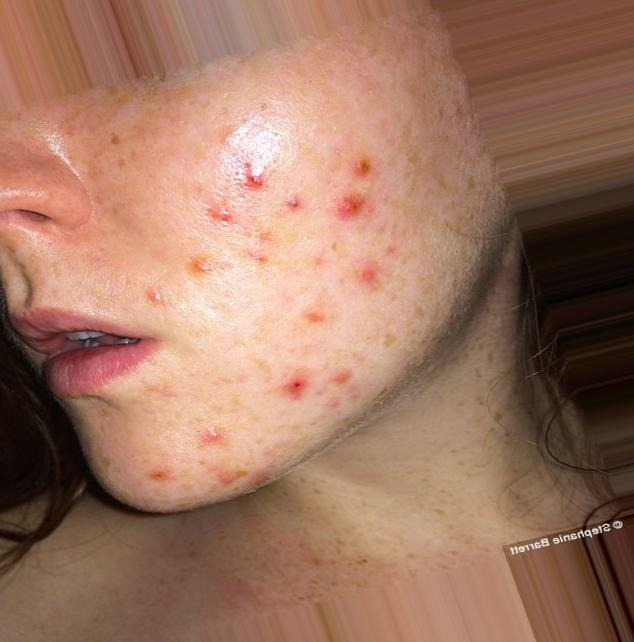Acne: (328, 185, 390, 228), (273, 360, 322, 407), (292, 292, 340, 338), (198, 188, 245, 233), (340, 147, 387, 192), (273, 175, 312, 228), (232, 155, 277, 197), (197, 410, 233, 462), (348, 253, 385, 298), (187, 247, 223, 290), (143, 460, 180, 495), (137, 278, 172, 313)
